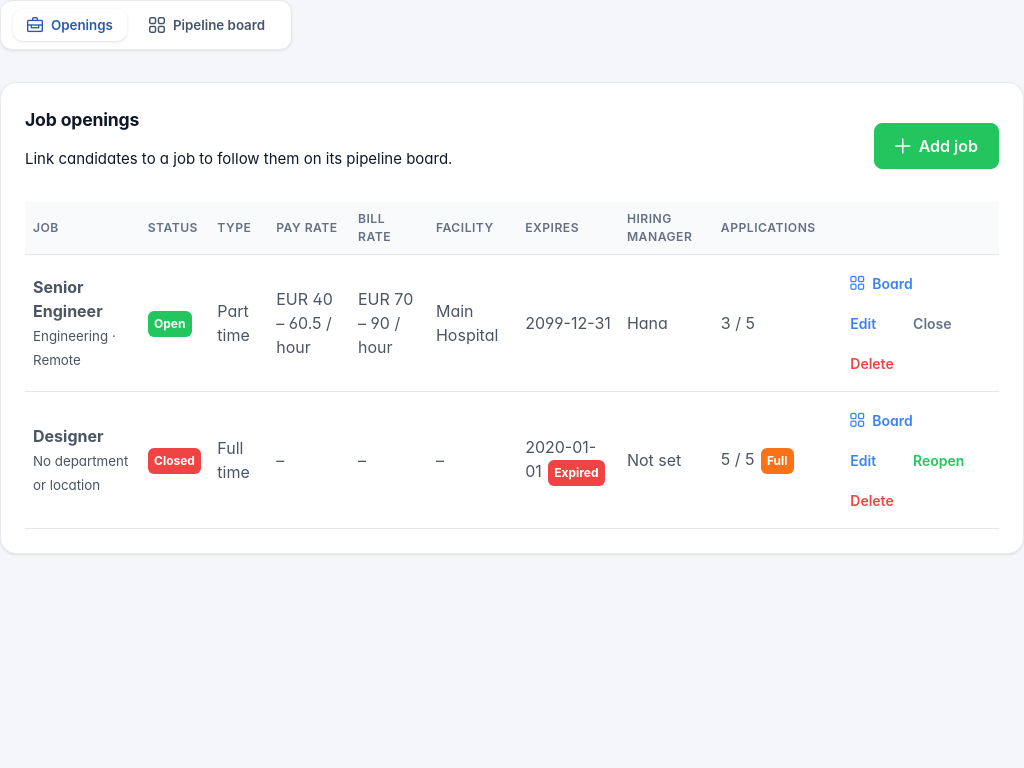
Test: JobsModule: pipeline board › loads the first open job's applications and shows a column per stage with its cards
The width and height of the screenshot is (1024, 768).
Click the tab with class "jobs-tab" showing "Pipeline board": point(207, 25) [135,9,279,41]
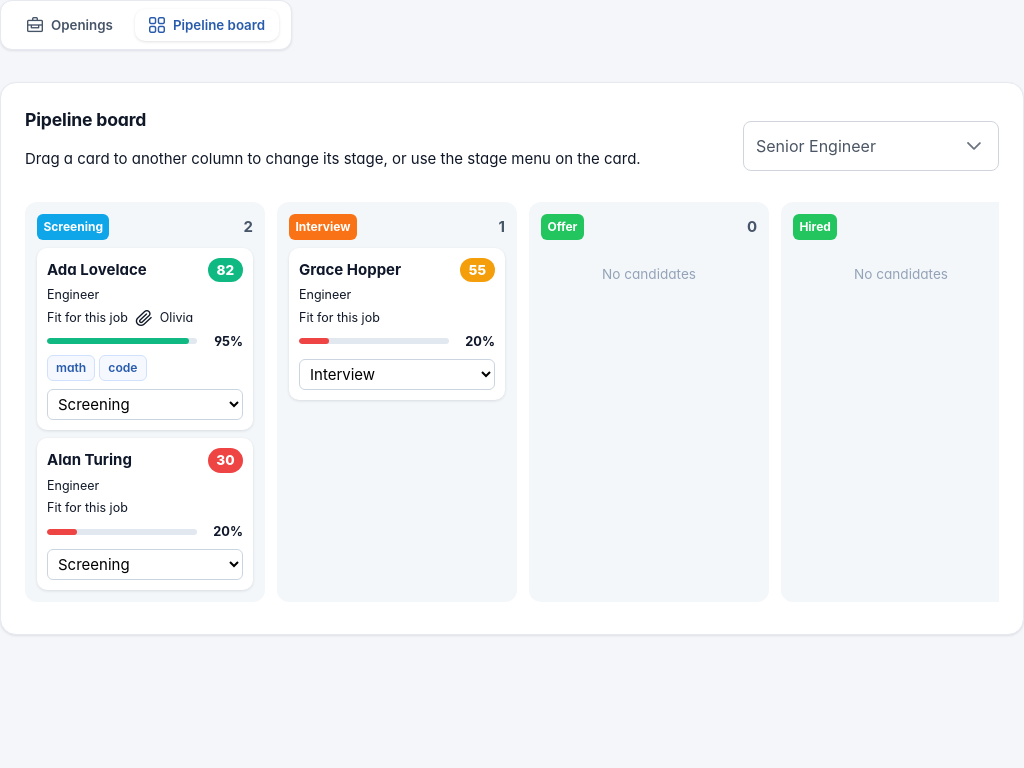
Check: the element with class "board-column" shows "Ada Lovelace", box [47,259,147,281]
Check: the element with class "board-column" shows "Alan Turing", box [47,449,132,472]
Check: the element with class "board-column" shows "Grace Hopper", box [299,259,401,281]
